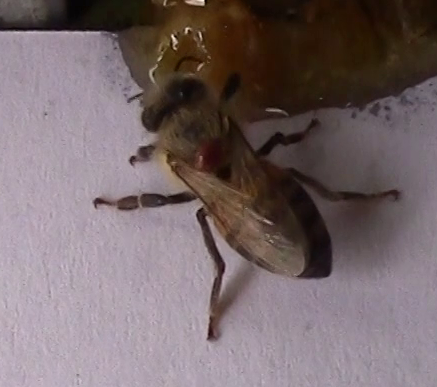Varroa destructor: (188, 135, 230, 173)
